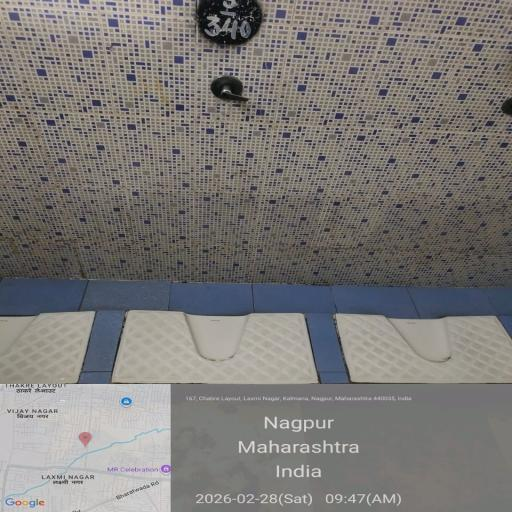clean_floor: (263, 8, 512, 278), (0, 282, 512, 389), (0, 4, 217, 60)
partial_dirty_floor: (18, 68, 184, 176), (0, 189, 166, 284)
